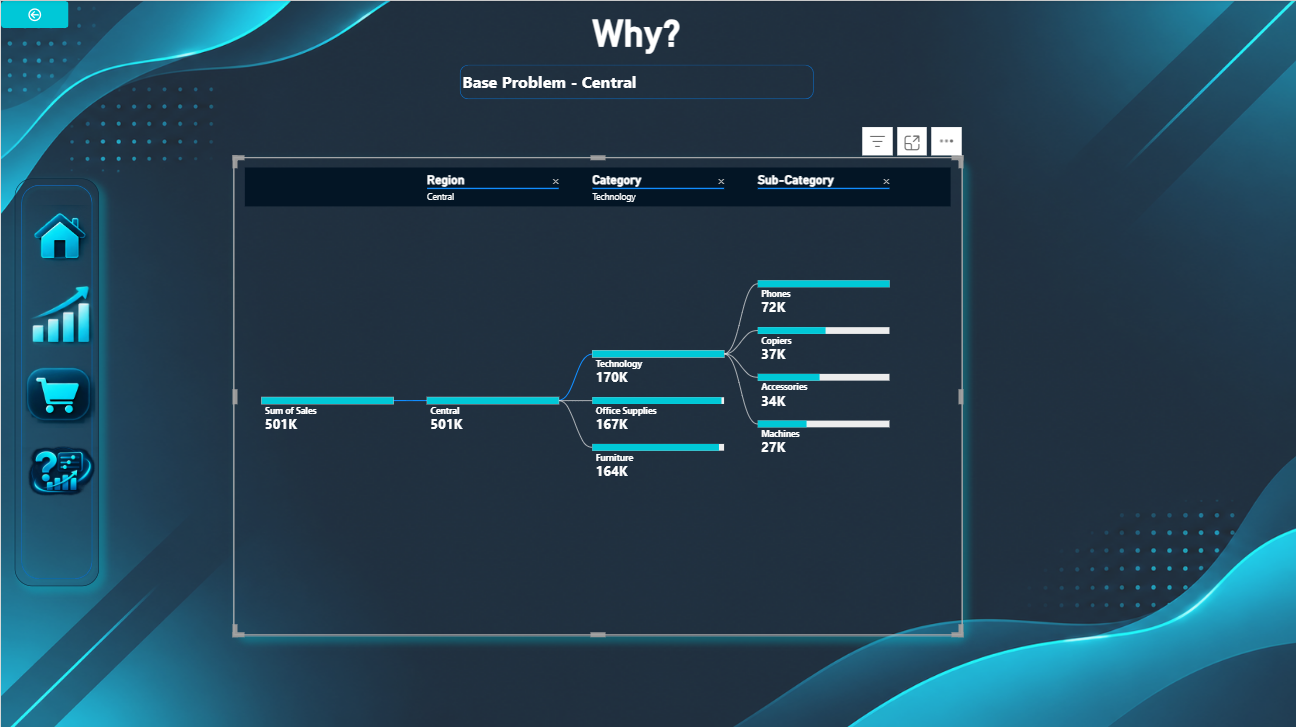

Layout of this report page (visuals, bound fields, positions):
{"tool":"powerbi","page":{"name":"why?","canvas":[1920,1080],"ordinal":3},"visuals":[{"type":"shape","box":[20.4,263,125.2,603.7],"z":6000,"group":"g1"},{"type":"image","box":[41.5,298.7,99.4,101.2],"z":7000,"group":"g1"},{"type":"image","box":[41.5,399.9,97.5,132.5],"z":8000,"group":"g1"},{"type":"image","box":[28.6,541.6,119.6,92],"z":9000,"group":"g1"},{"type":"image","box":[32.3,653.9,114.1,88.3],"z":10000,"group":"g1"},{"type":"group","id":"g1","title":"Group 1","box":[20.4,263,127.8,603.7],"z":10001},{"type":"decompositionTreeVisual","fields":{"Analyze":["Sum(Sample - Superstore.Sales)"],"ExplainBy":["Sample - Superstore.Region","Sample - Superstore.Category","Sample - Superstore.Sub-Category"]},"box":[344.4,231.5,1079.6,709.3],"z":10002},{"type":"shape","title":"Why?","box":[679.6,16.7,524.5,128.8],"z":10003},{"type":"actionButton","box":[0,0,100,40],"z":10004}]}

Visuals, with their boxes on the page's 1920x1080 design canvas (x1, y1, x2, y2). These are canvas units, not pixel positions in the 1296x727 screenshot, which may show the page scaled, cropped or inside an application window:
shape: 20, 263, 146, 867
image: 42, 299, 141, 400
image: 42, 400, 139, 532
image: 29, 542, 148, 634
image: 32, 654, 146, 742
"Group 1" group: 20, 263, 148, 867
decompositionTreeVisual - Sum(Sample - Superstore.Sales) x Sample - Superstore.Region: 344, 232, 1424, 941
"Why?" shape: 680, 17, 1204, 146
actionButton: 0, 0, 100, 40
